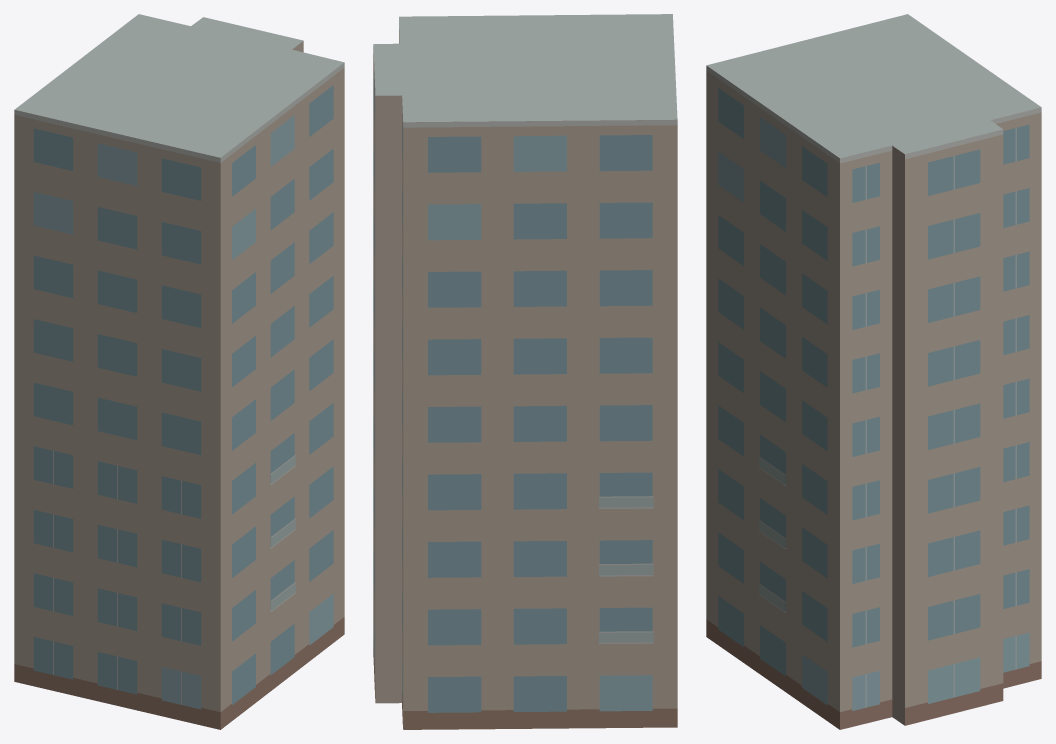
Rendered from survey-upis-32996472.glb.
The picture shows the model from 3 angles, left to right: view 1: azimuth 30°, elevation 25°; view 2: azimuth 150°, elevation 25°; view 3: azimuth 270°, elevation 25°; orthographic projection. The views are drawn at different scales.
Parts seen in each view (by area): view 1: survey-upis-32996472.tmp; view 2: survey-upis-32996472.tmp; view 3: survey-upis-32996472.tmp.
Boxes of the visible parts, bbox=[...] form: survey-upis-32996472.tmp: bbox=[14, 14, 344, 729]; survey-upis-32996472.tmp: bbox=[373, 14, 677, 729]; survey-upis-32996472.tmp: bbox=[706, 14, 1041, 729].
Bounding box in the file's own units: 14.96 × 27.6 × 14.69.
